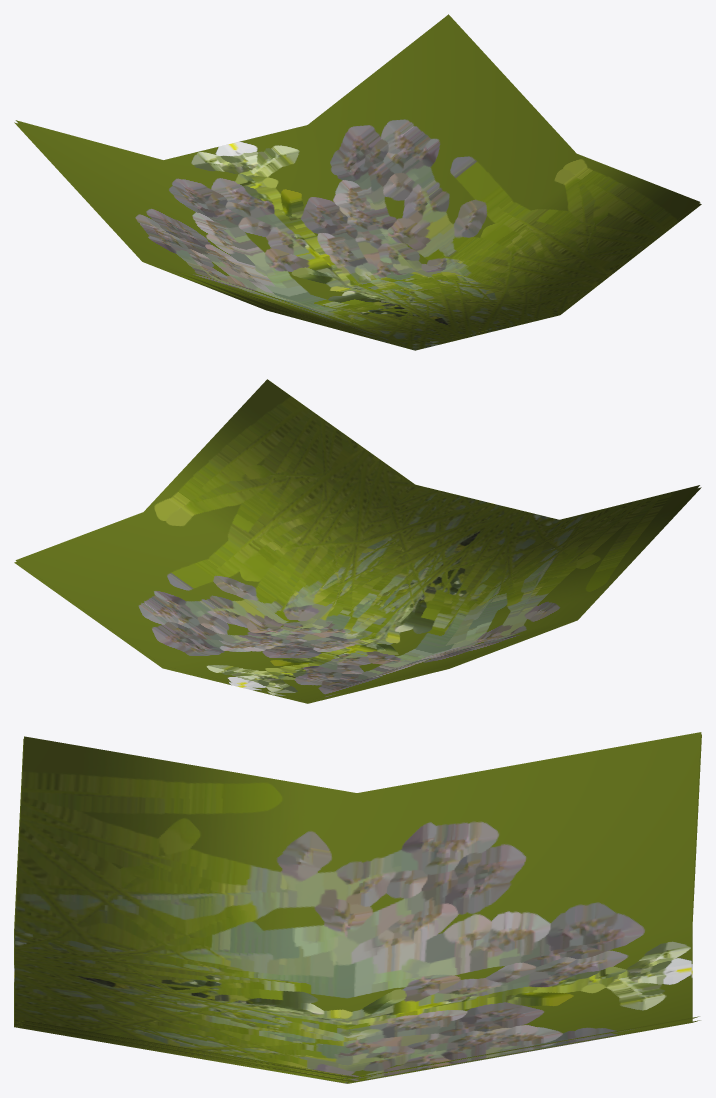
The model's file is grass_1.fbx.
3 views of the same model, one above another, from view 1: azimuth 30°, elevation 25°; view 2: azimuth 150°, elevation 25°; view 3: azimuth 270°, elevation 25° (orthographic). The views are drawn at different scales.
Visible parts, largest first — view 1: grass_1; view 2: grass_1; view 3: grass_1.
Boxes of the visible parts, x1=… form: grass_1: x1=14, y1=14, x2=701, y2=350; grass_1: x1=14, y1=379, x2=701, y2=703; grass_1: x1=14, y1=732, x2=701, y2=1083.
Bounding box in the file's own units: 0.192 × 0.0509 × 0.1955.
